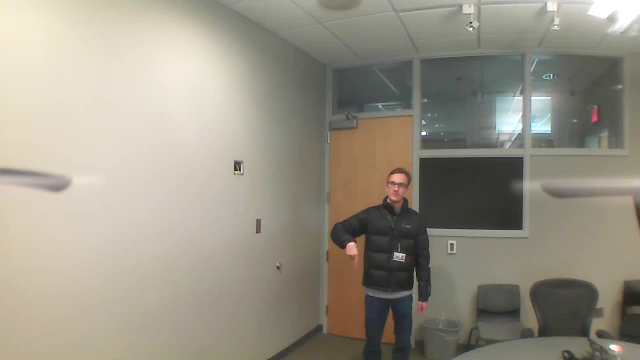down: (336, 233, 365, 274)
